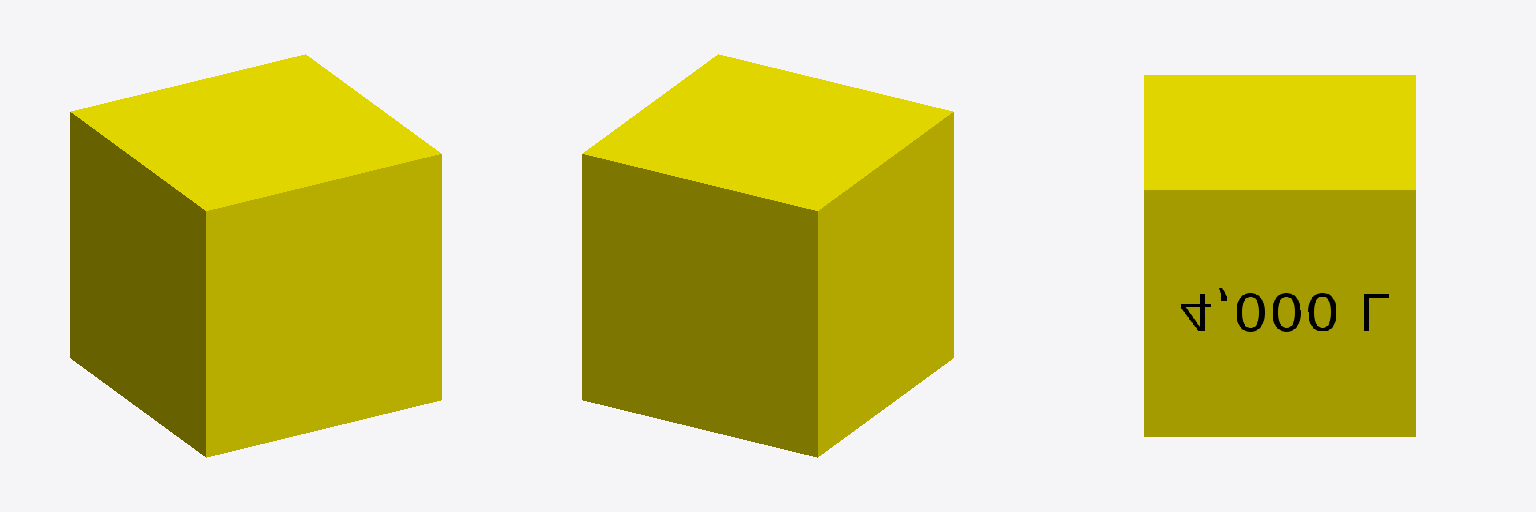
The picture shows the model from 3 angles: view 1: azimuth 30°, elevation 25°; view 2: azimuth 150°, elevation 25°; view 3: azimuth 270°, elevation 25°; orthographic projection.
Visible parts, largest first — view 1: Cube; view 2: Cube; view 3: Cube.
Boxes of the visible parts, x1,y1,x2,y2 form: Cube: [70, 54, 441, 457]; Cube: [582, 54, 953, 457]; Cube: [1144, 75, 1415, 436].
Size of the model in its own units: 3.86 by 3.86 by 3.86.
1 materials, 1 textured.